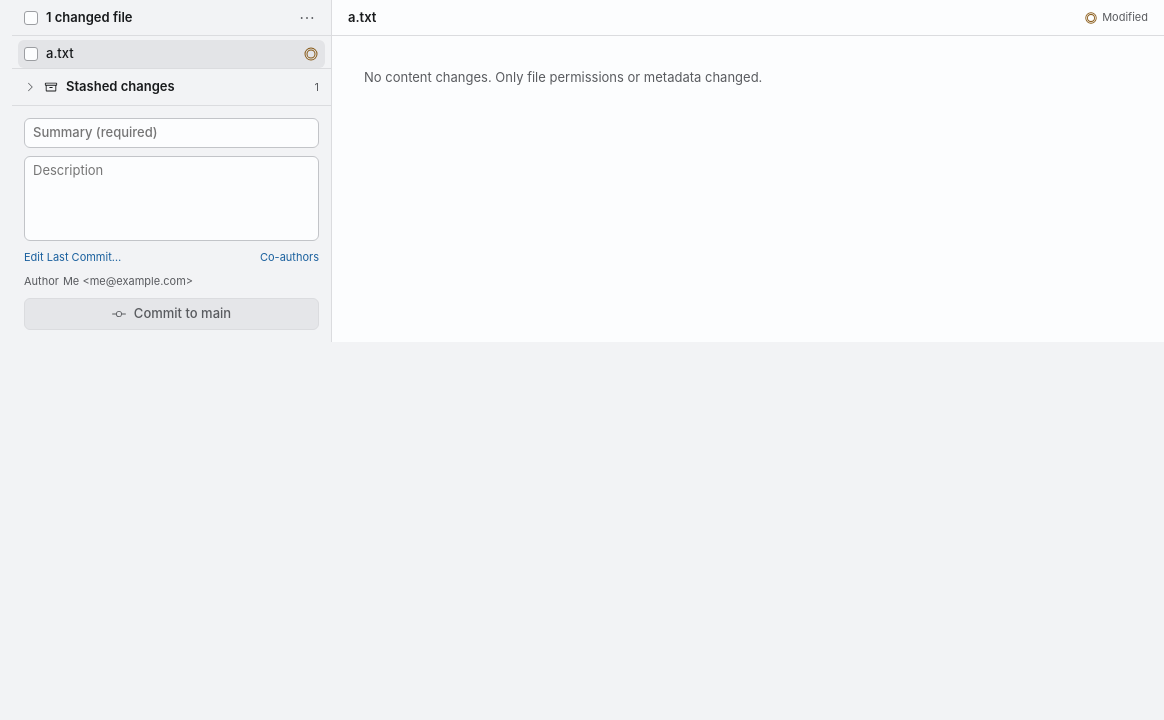
Scenario: stashes in the changes view › applies a stash and says what was lost when the index didn't fit
Click the button "Stashed changes 1" at (172, 87), box [12, 69, 331, 105]
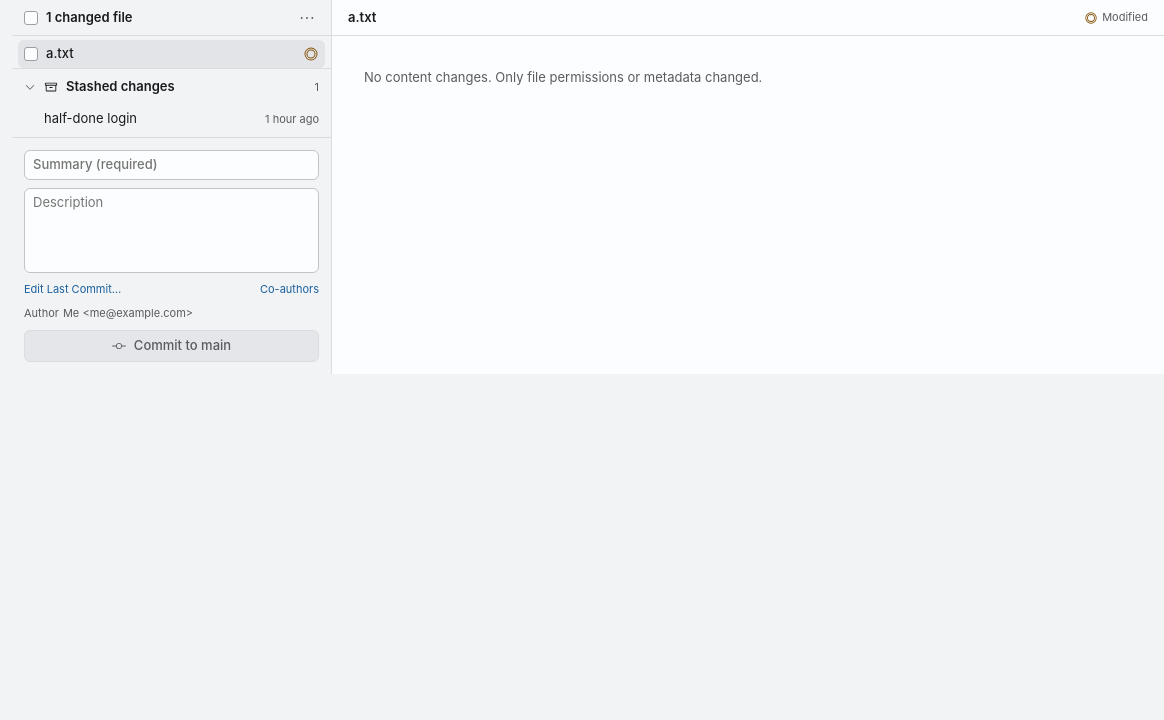
Click the button "half-done login 1 hour ago" at (90, 118), box [18, 105, 325, 133]
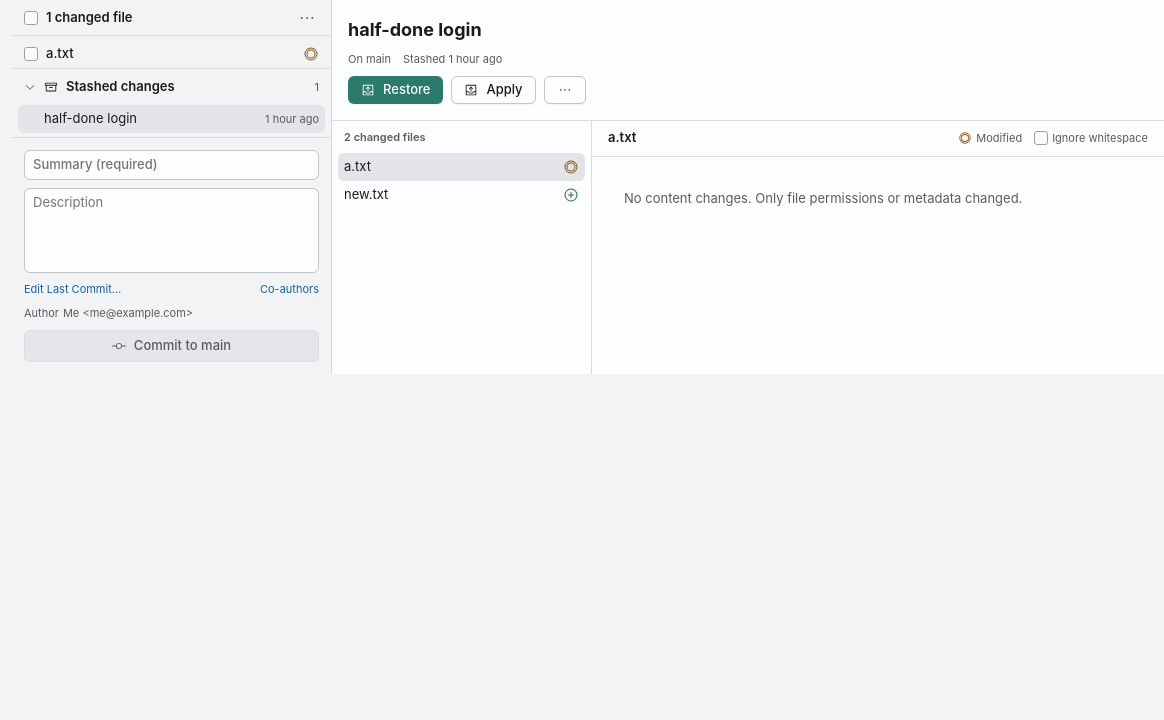
Click the button "Apply" at (494, 90), box [452, 76, 536, 104]
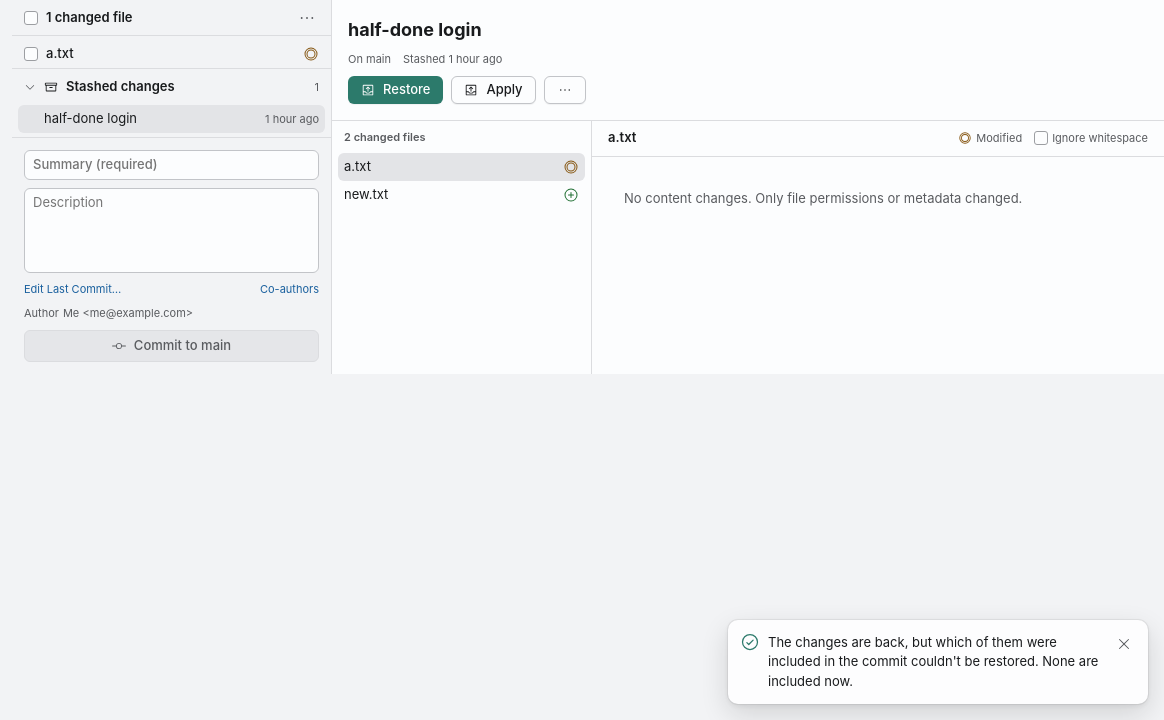
Result: the text "None are included now" is shown at [768, 634, 1098, 688]
